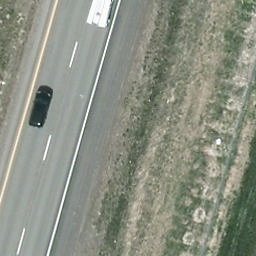car: (31, 88, 52, 128)
